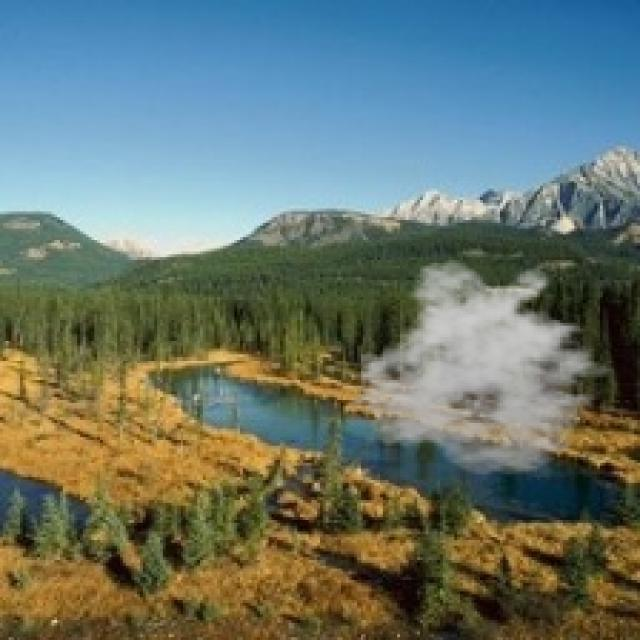Smoke: (346, 257, 628, 477)
